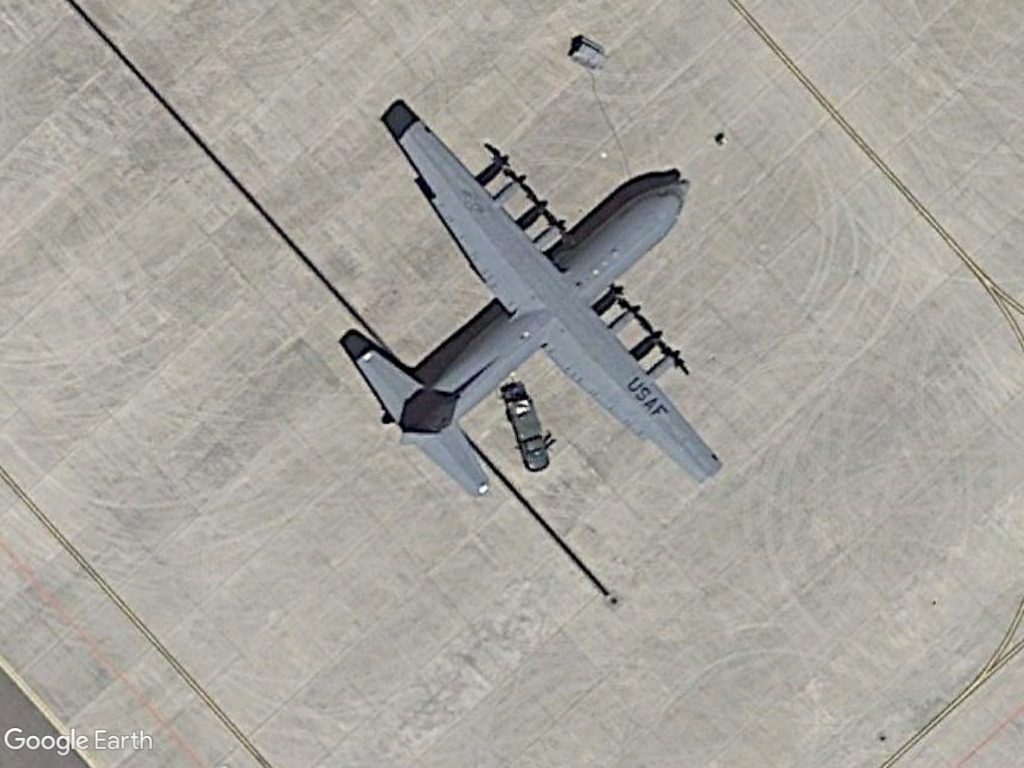other: (500, 384, 560, 476)
propeller: (317, 110, 747, 516)
